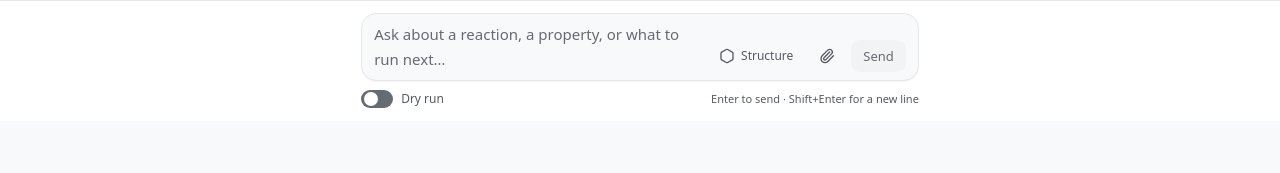
Test: the composer › says why a paste was not checked, instead of falling silent
Type "COc1ccc(Br)cc1" into the text box named "Message" at [538, 47], box [374, 22, 701, 72]
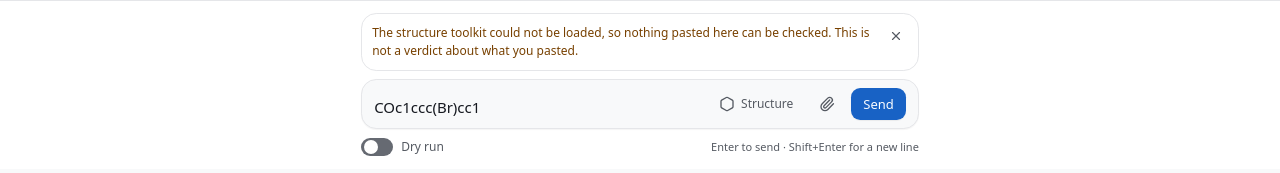
Now the message shows "structure toolkit could not be loaded", box [372, 24, 870, 59]
